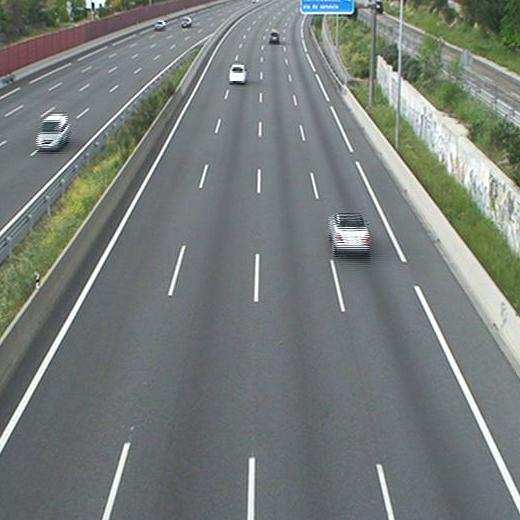car: (328, 211, 371, 257), (228, 64, 247, 85), (269, 29, 279, 43)
